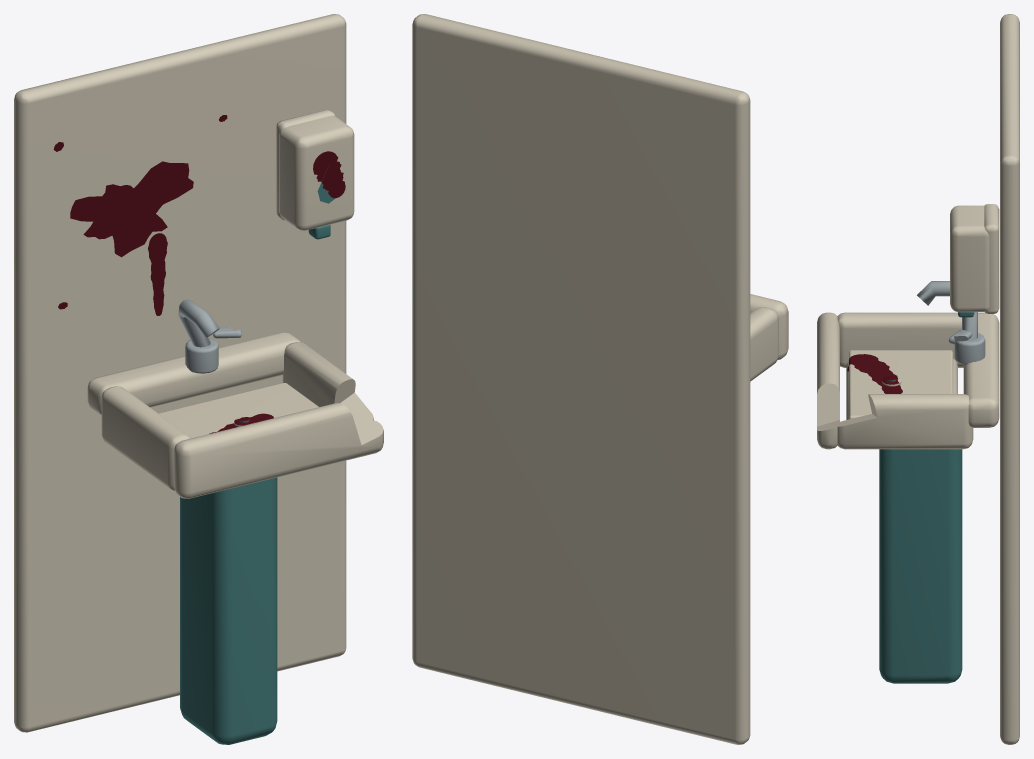
File: utility_sink.glb
3 views of the same model, side by side, from view 1: azimuth 30°, elevation 25°; view 2: azimuth 150°, elevation 25°; view 3: azimuth 270°, elevation 25° (orthographic). The views are drawn at different scales.
Visible parts, largest first — view 1: OB_UtilitySink_01_Static; view 2: OB_UtilitySink_01_Static; view 3: OB_UtilitySink_01_Static.
Boxes of the visible parts, x1,y1,x2,y2 form: OB_UtilitySink_01_Static: [14, 14, 383, 744]; OB_UtilitySink_01_Static: [412, 14, 788, 744]; OB_UtilitySink_01_Static: [817, 14, 1019, 744].
Bounding box in the file's own units: 0.88 × 1.64 × 0.512.
